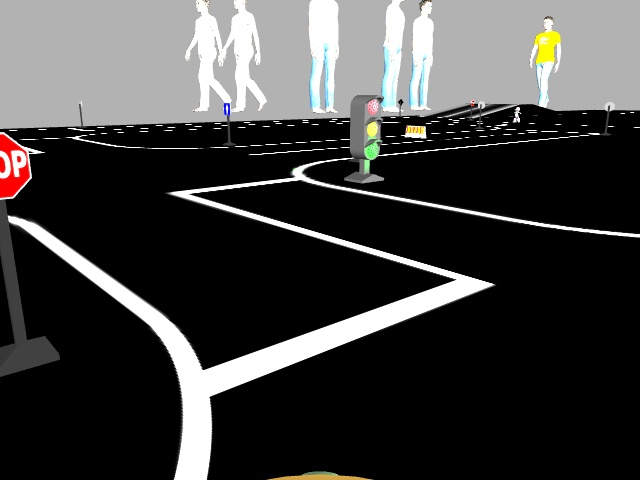ClosedRoadStand: (406, 125, 424, 138)
Stop: (0, 132, 33, 201)
TrafficLight: (352, 96, 380, 158)
